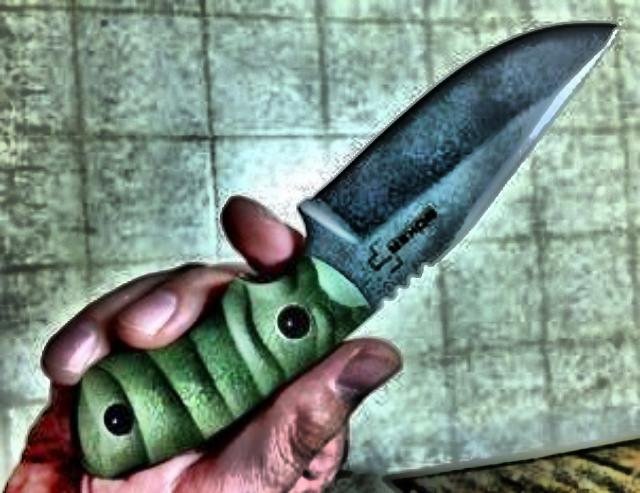knife: (200, 7, 624, 403)
